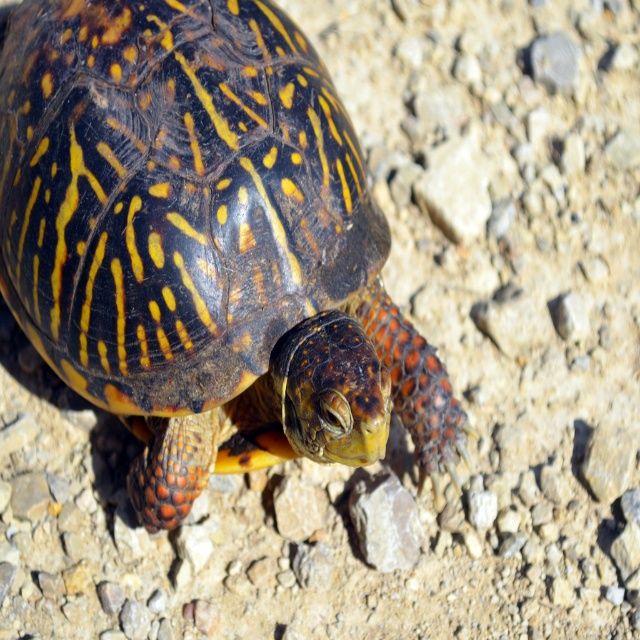Sea turtle: (0, 0, 479, 534)
